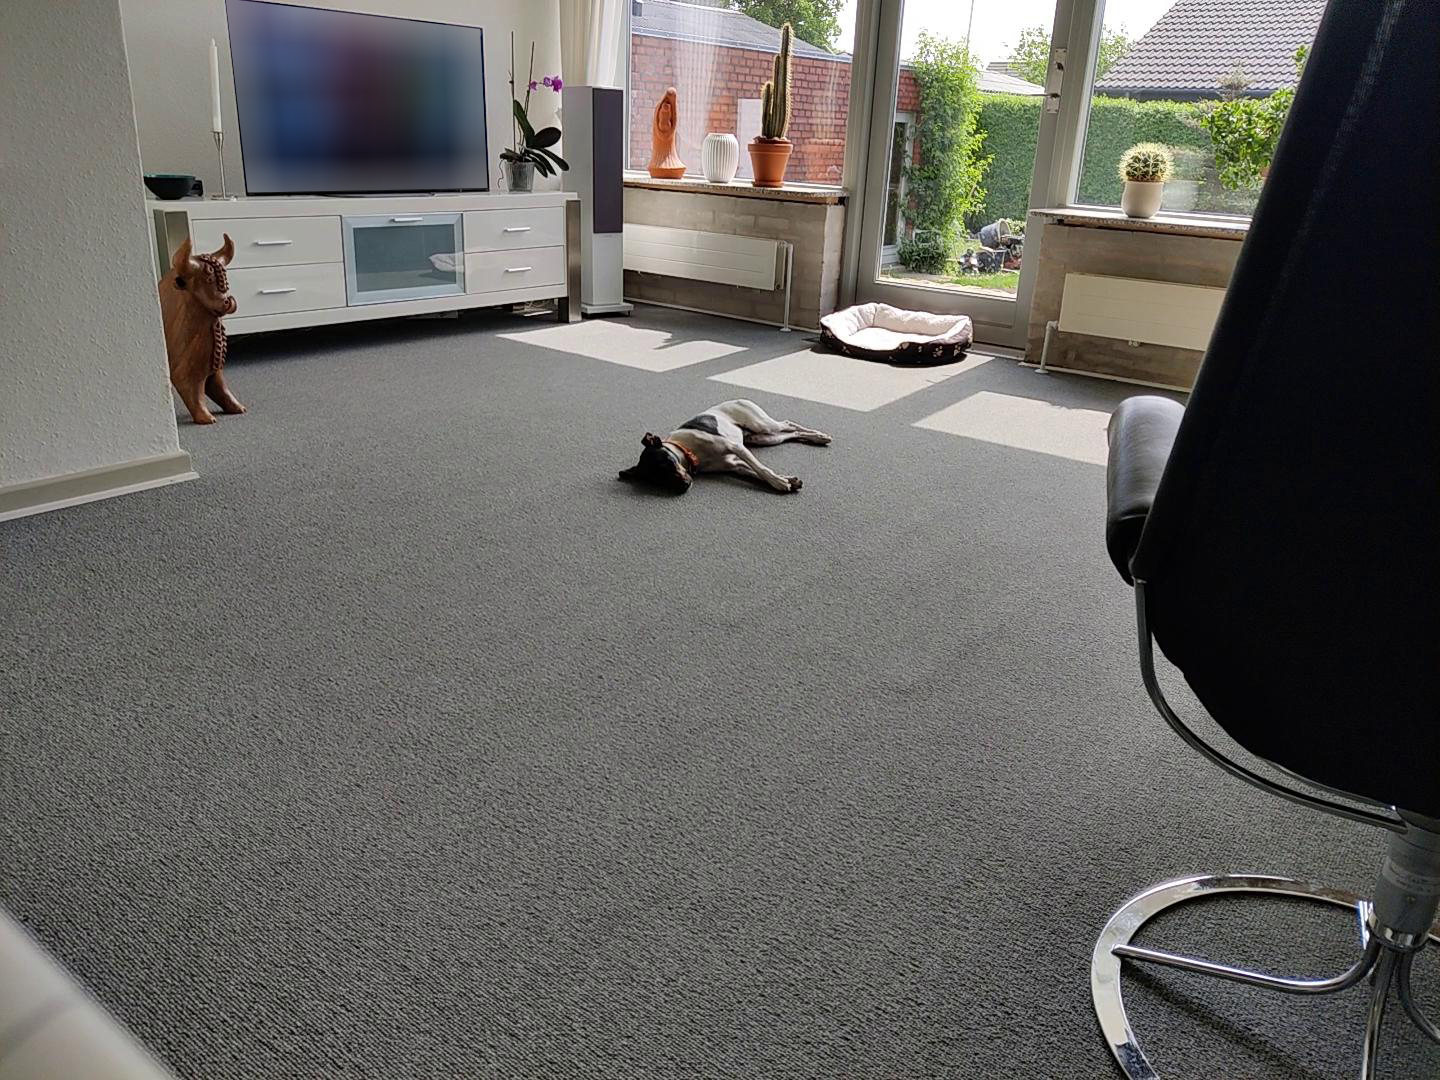Dog: (615, 395, 838, 496)
